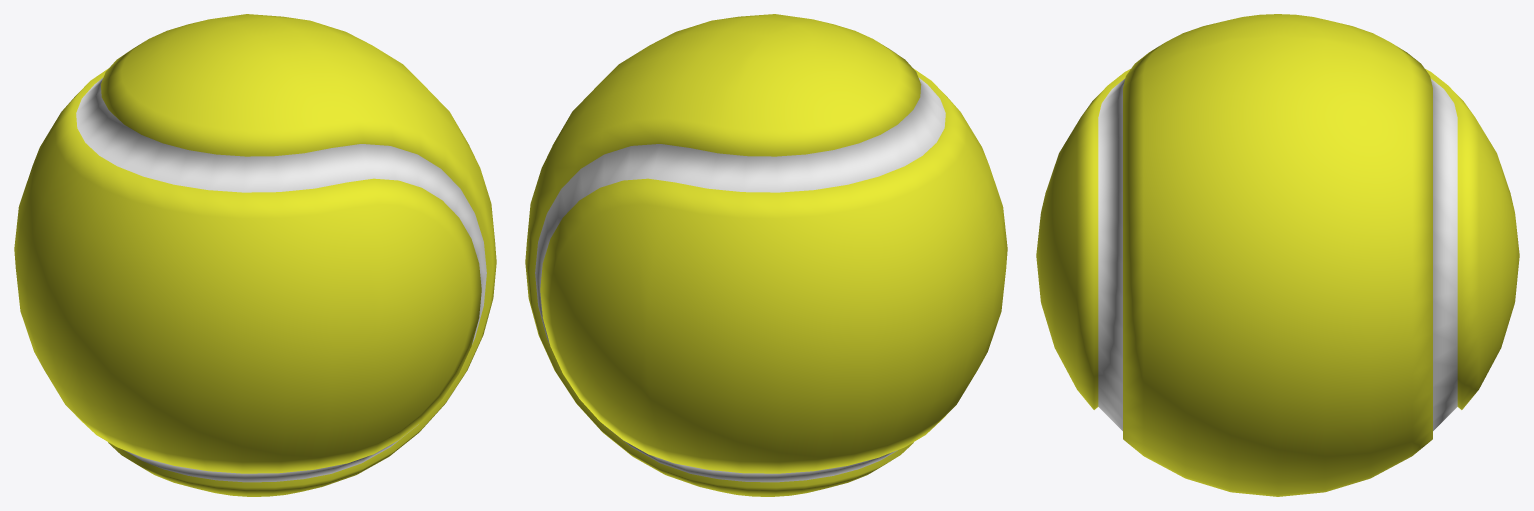
Rendered from tennis_ball.glb.
3 views of the same model, side by side, from view 1: azimuth 30°, elevation 25°; view 2: azimuth 150°, elevation 25°; view 3: azimuth 270°, elevation 25° (orthographic).
Parts seen in each view (by area): view 1: Sphere; view 2: Sphere; view 3: Sphere.
Part boxes in pixels (x1,y1,x2,y2): Sphere: (14, 14, 496, 496); Sphere: (525, 14, 1007, 496); Sphere: (1036, 14, 1519, 496).
Bounding box in the file's own units: 2 × 2 × 2.
